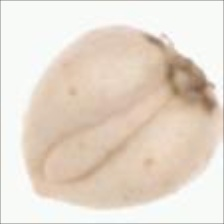L5: (43, 83, 172, 183), (141, 29, 224, 117), (23, 161, 62, 205)
L6: (17, 22, 224, 214)
